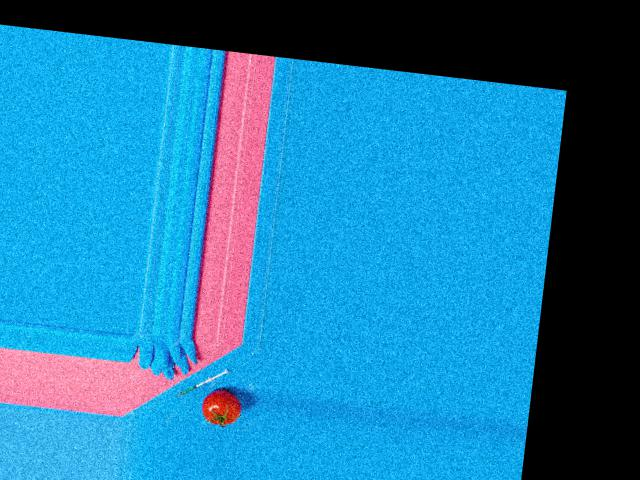tomato: (200, 387, 242, 426)
